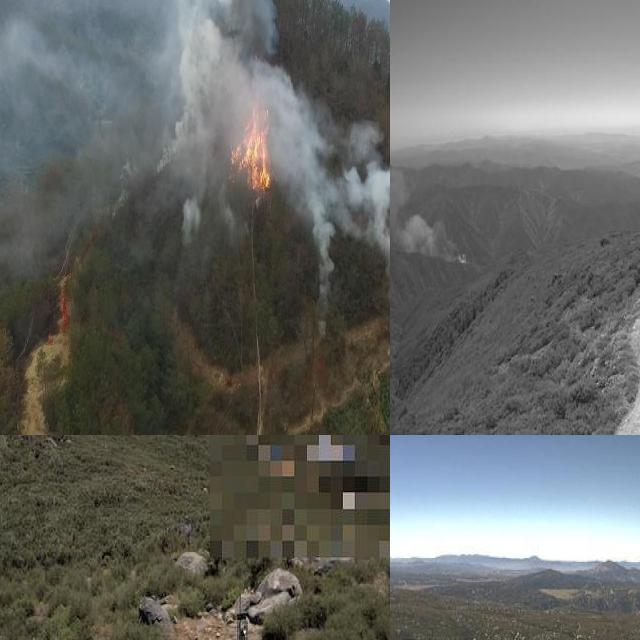fire: (198, 65, 294, 213)
smoke: (0, 0, 390, 300), (390, 160, 466, 262)
